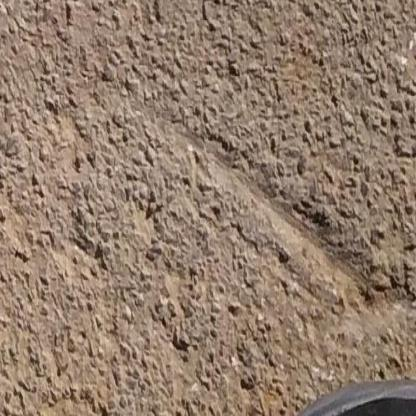Cracks: (156, 129, 371, 313)
